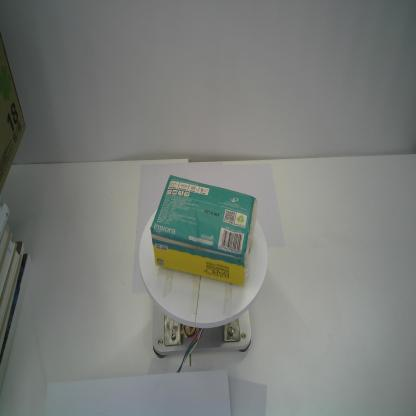Tissue: (149, 172, 260, 287)
